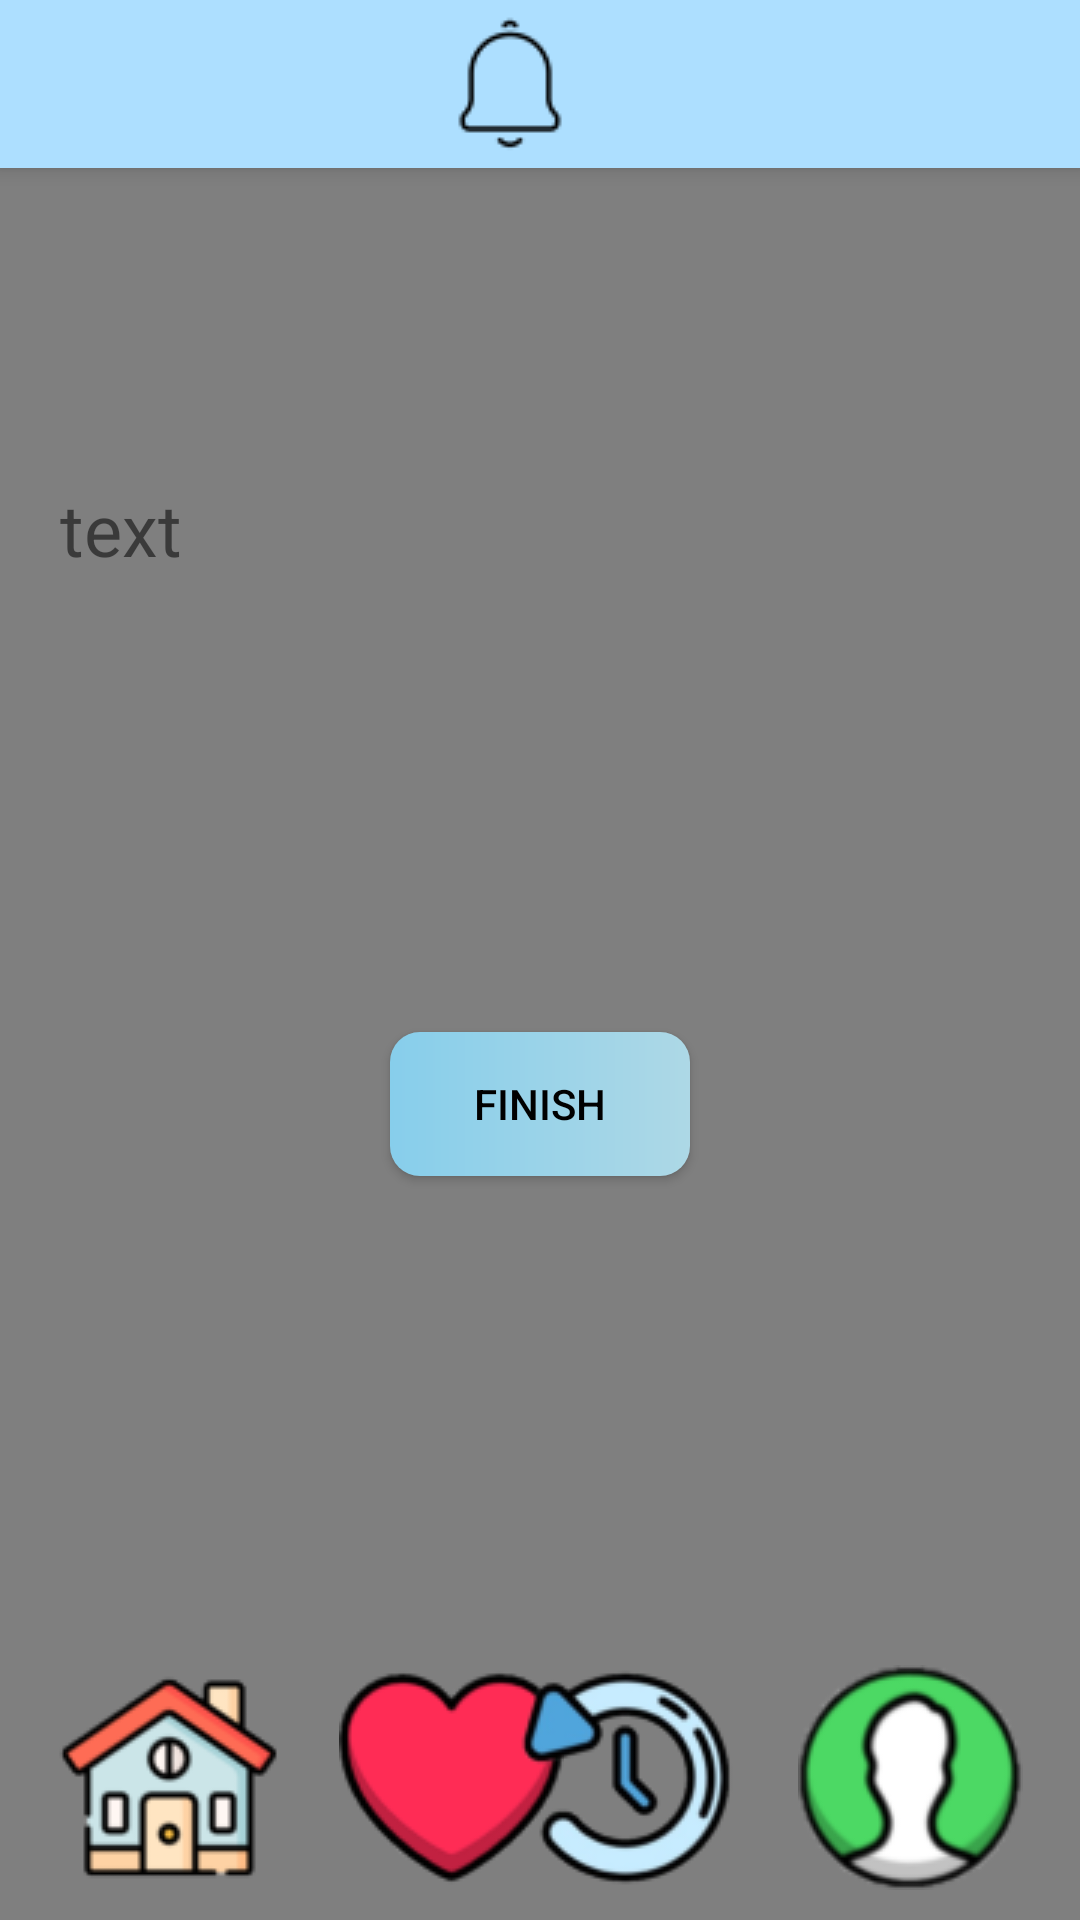

Point at icon controls on the screen. Image size 1080 × 1920, points as (x=x, y=y).
heart: (x=451, y=1777)
history: (x=623, y=1777)
home: (x=169, y=1777)
notification: (x=510, y=83)
profile: (x=909, y=1777)
